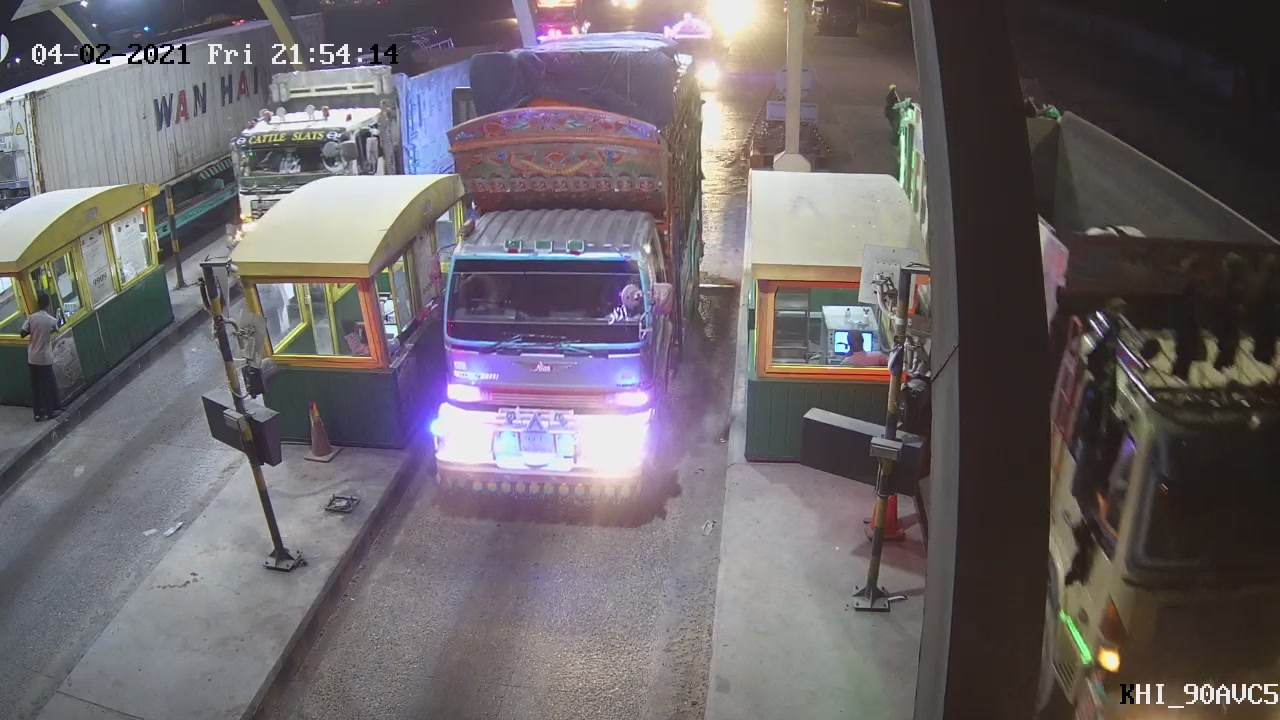F5: (416, 36, 714, 514)
